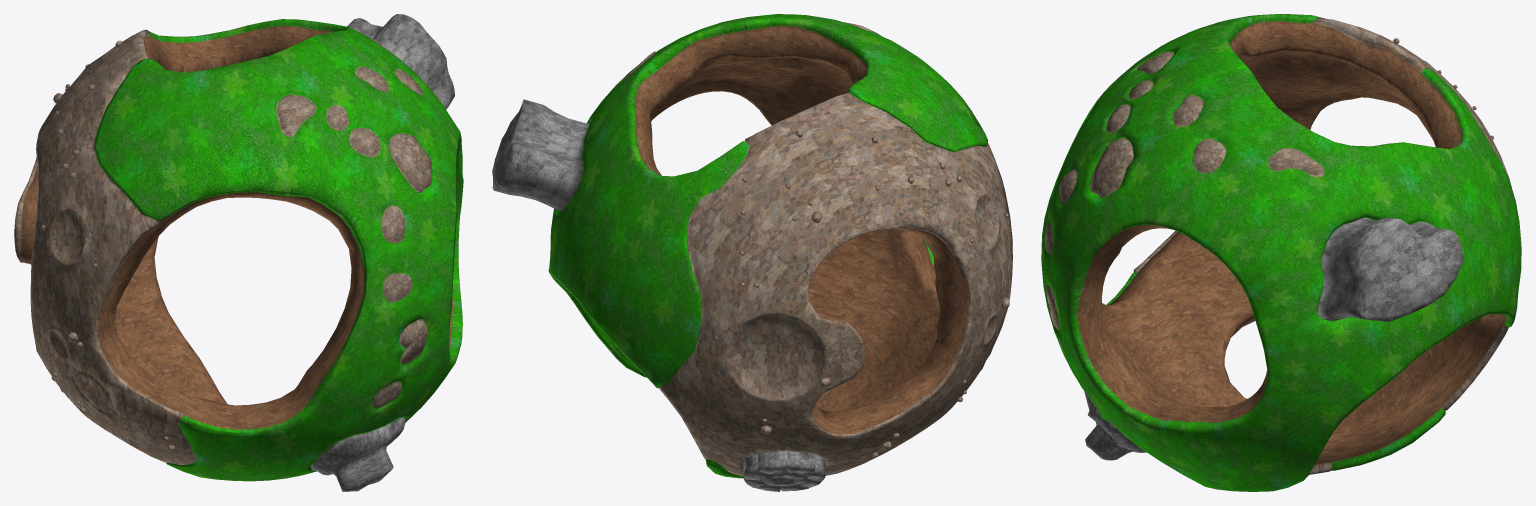
File: Hole Planet.fbx
3 views of the same model, side by side, from view 1: azimuth 30°, elevation 25°; view 2: azimuth 150°, elevation 25°; view 3: azimuth 270°, elevation 25° (orthographic). The views are drawn at different scales.
Visible parts, largest first — view 1: Hole_Planet:grass, Hole_Planet:dirt, Hole_Planet:dirt2, Hole_Planet:rock2; view 2: Hole_Planet:dirt, Hole_Planet:grass, Hole_Planet:dirt2, Hole_Planet:rock2; view 3: Hole_Planet:grass, Hole_Planet:dirt2, Hole_Planet:rock2, Hole_Planet:dirt.
Boxes of the visible parts, <box> form: Hole_Planet:grass: <box>94,19,463,481</box>; Hole_Planet:dirt: <box>14,29,432,464</box>; Hole_Planet:dirt2: <box>20,25,456,429</box>; Hole_Planet:rock2: <box>310,14,454,491</box>; Hole_Planet:dirt: <box>622,22,1012,475</box>; Hole_Planet:grass: <box>548,14,987,478</box>; Hole_Planet:dirt2: <box>616,25,968,434</box>; Hole_Planet:rock2: <box>492,99,825,491</box>; Hole_Planet:grass: <box>1041,14,1521,491</box>; Hole_Planet:dirt2: <box>1077,21,1506,464</box>; Hole_Planet:rock2: <box>1084,217,1463,460</box>; Hole_Planet:dirt: <box>1044,17,1511,474</box>.
Size of the model in its own units: 248 by 226 by 227.
4 materials, 4 textured.
